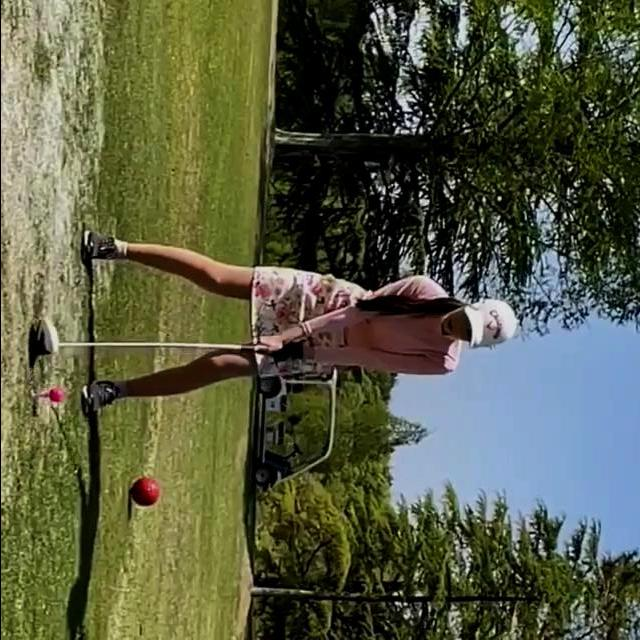golf ball: (44, 388, 68, 403)
golf club-handle: (30, 322, 273, 363)
golf club-head: (30, 322, 57, 356)
